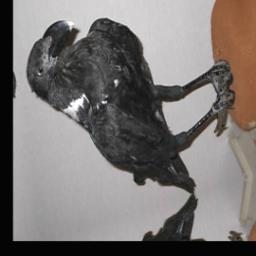Crow: (20, 0, 248, 237)
